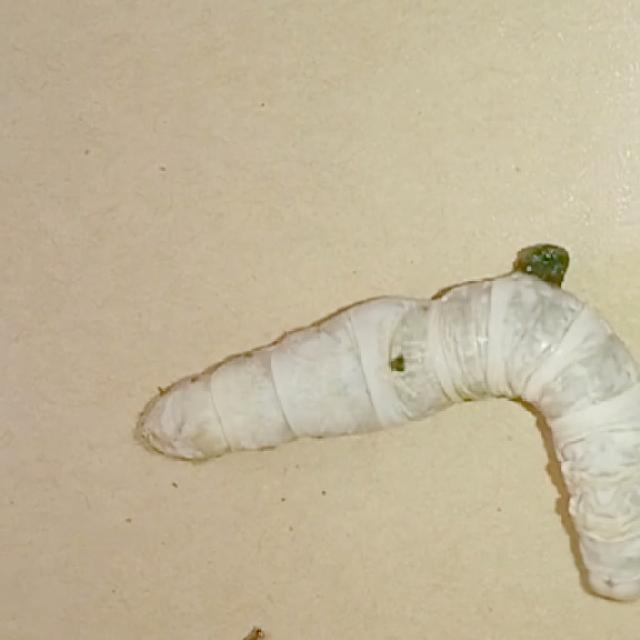Grasserie: (113, 249, 640, 609)
